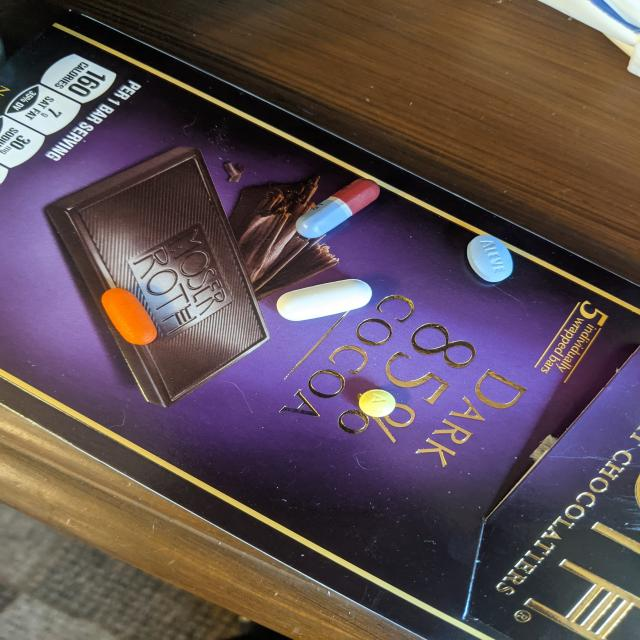non-organic waste: (294, 177, 381, 239), (276, 278, 373, 322), (100, 287, 158, 346), (465, 234, 515, 282), (358, 388, 397, 418)
